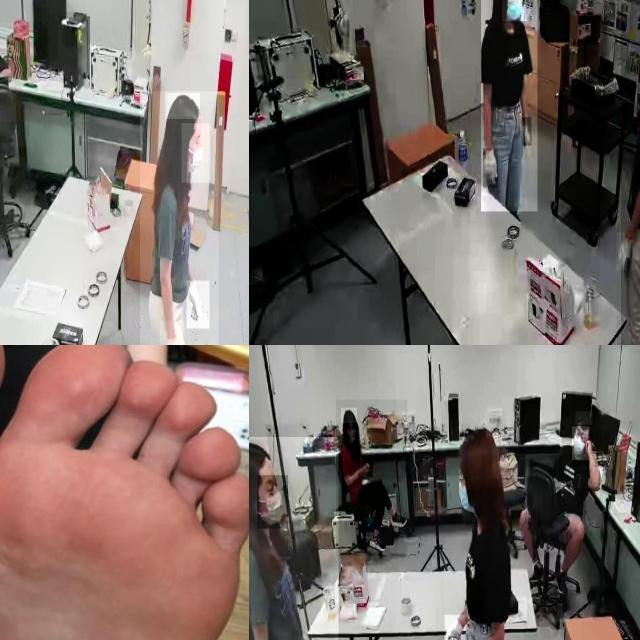Barefoots: (0, 345, 249, 640)
face_mask: (182, 123, 210, 183), (257, 475, 288, 529), (452, 460, 477, 514), (572, 426, 590, 460), (501, 0, 526, 21)
face_nomask: (346, 426, 356, 442)
hand_glove: (187, 280, 210, 328), (616, 233, 634, 271), (483, 148, 499, 188), (160, 320, 185, 345), (444, 614, 465, 640), (522, 117, 532, 147)
hand_noglove: (358, 460, 374, 479), (584, 438, 594, 455)
head_nohelmet: (456, 426, 498, 456), (166, 93, 200, 120), (249, 439, 274, 469), (575, 412, 593, 426), (341, 408, 357, 423)
person: (140, 91, 219, 345), (249, 437, 338, 640), (444, 414, 523, 640), (481, 0, 538, 212), (336, 400, 408, 557), (556, 418, 604, 592)
